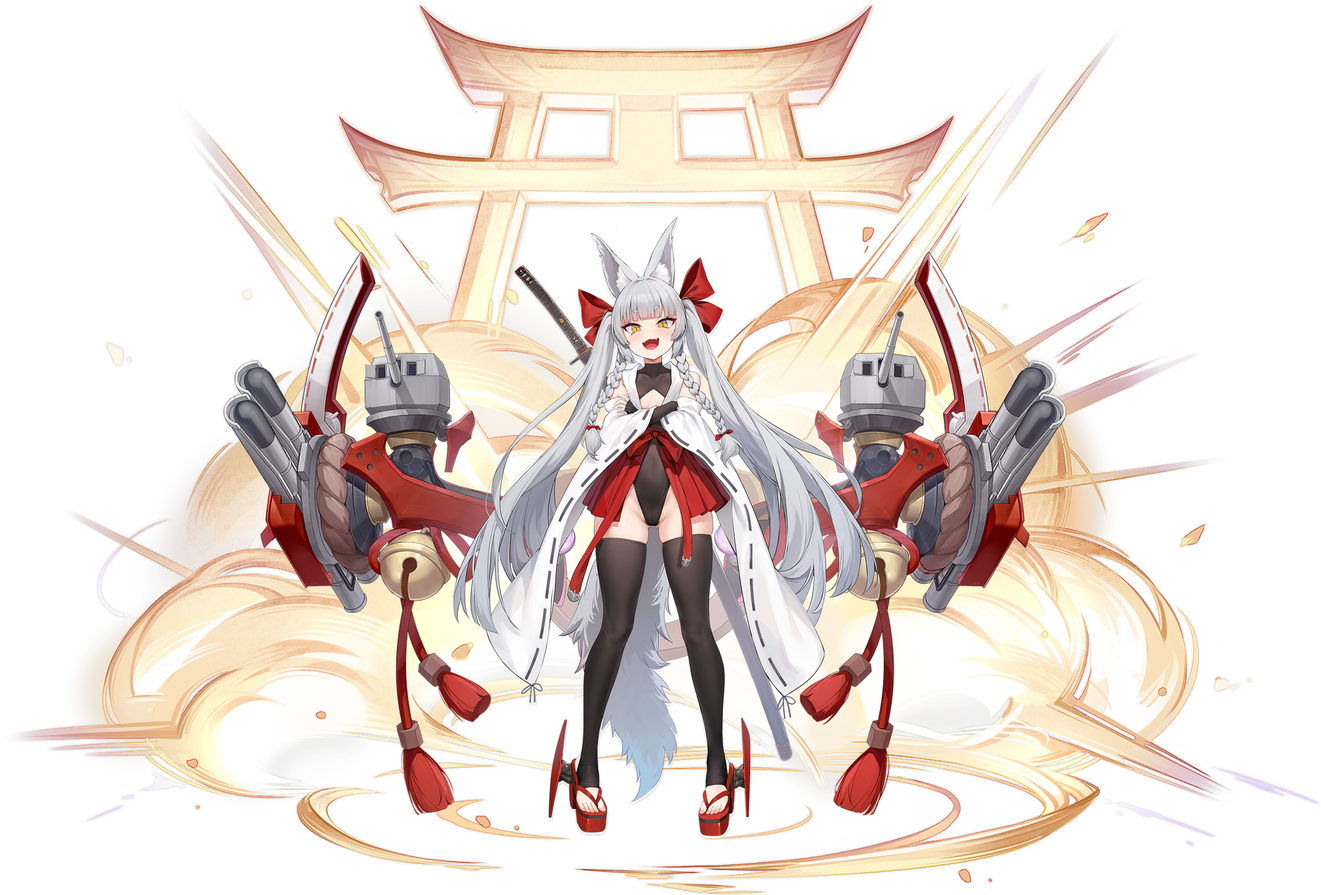person: (501, 225, 804, 881)
